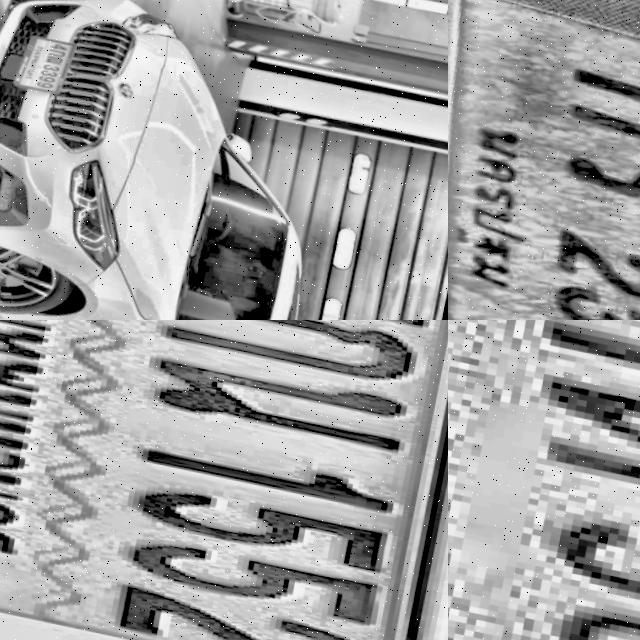license-plate: (0, 320, 448, 640), (448, 0, 640, 320), (448, 320, 640, 640), (10, 28, 81, 94)
